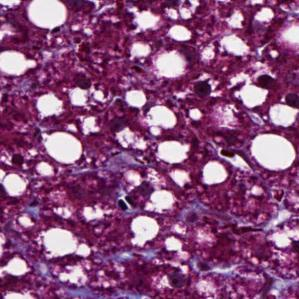steatosis: (250, 131, 297, 169), (46, 128, 84, 169), (25, 0, 69, 28), (42, 225, 78, 258), (237, 82, 271, 111), (155, 138, 191, 164), (131, 216, 159, 249), (155, 48, 183, 80), (202, 158, 227, 186), (3, 171, 26, 198), (169, 24, 194, 42)
